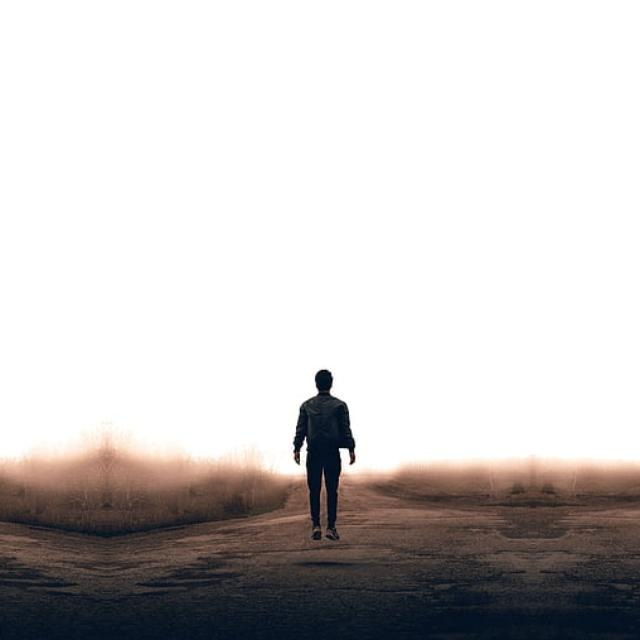person: (272, 353, 372, 584)
